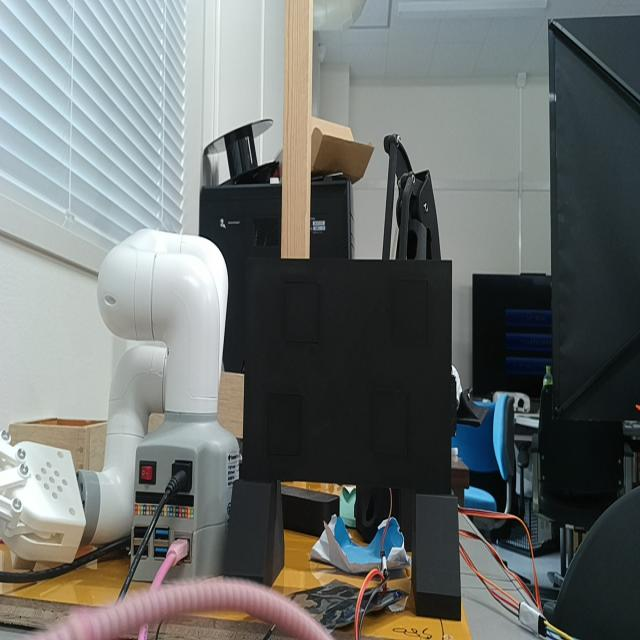Wall: (240, 260, 456, 493)
